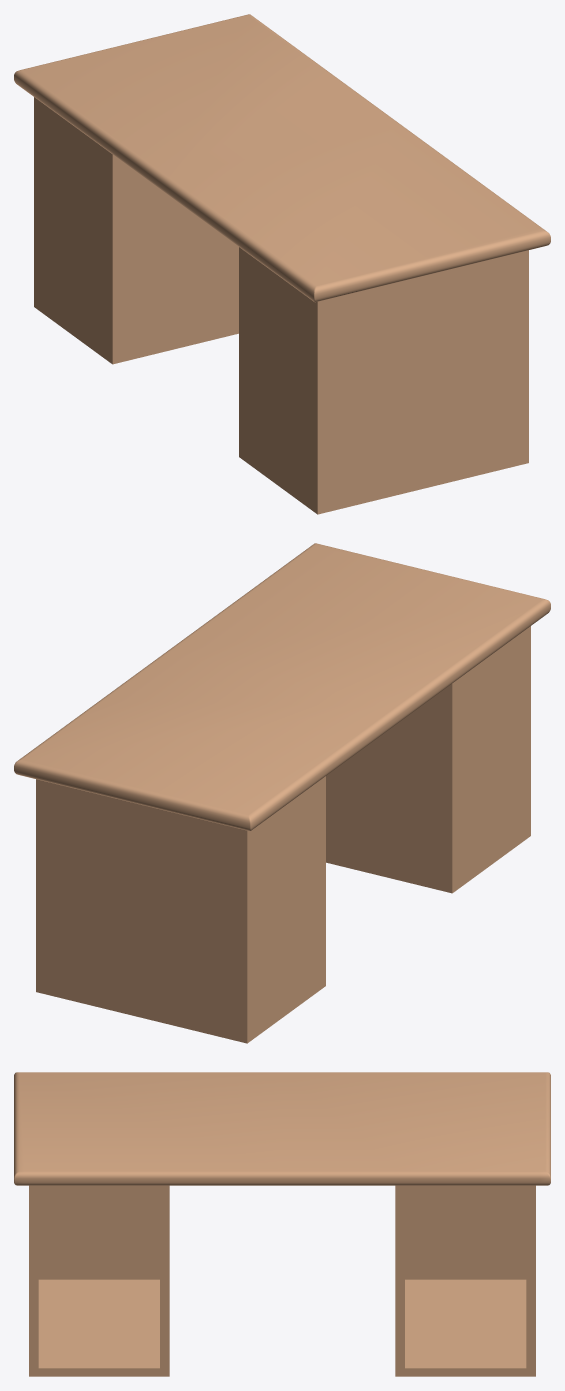
The model's file is desk.gltf.
3 renders of one model, top to bottom at view 1: azimuth 30°, elevation 25°; view 2: azimuth 150°, elevation 25°; view 3: azimuth 270°, elevation 25°, orthographic. The views are drawn at different scales.
Parts seen in each view (by area): view 1: Cube; view 2: Cube; view 3: Cube.
Boxes of the visible parts, box(x1,y1,x2,y2) form: Cube: box(14, 14, 550, 514); Cube: box(14, 543, 550, 1043); Cube: box(14, 1072, 550, 1376).
Bounding box in the file's own units: 2.24 × 2.12 × 4.93.
Materials: 1 (1 with a texture image).
